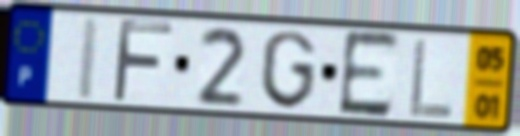2: (196, 24, 248, 107)
E: (336, 28, 403, 121)
F: (109, 16, 176, 106)
G: (259, 28, 318, 113)
I: (73, 14, 104, 103)
L: (406, 35, 457, 121)
